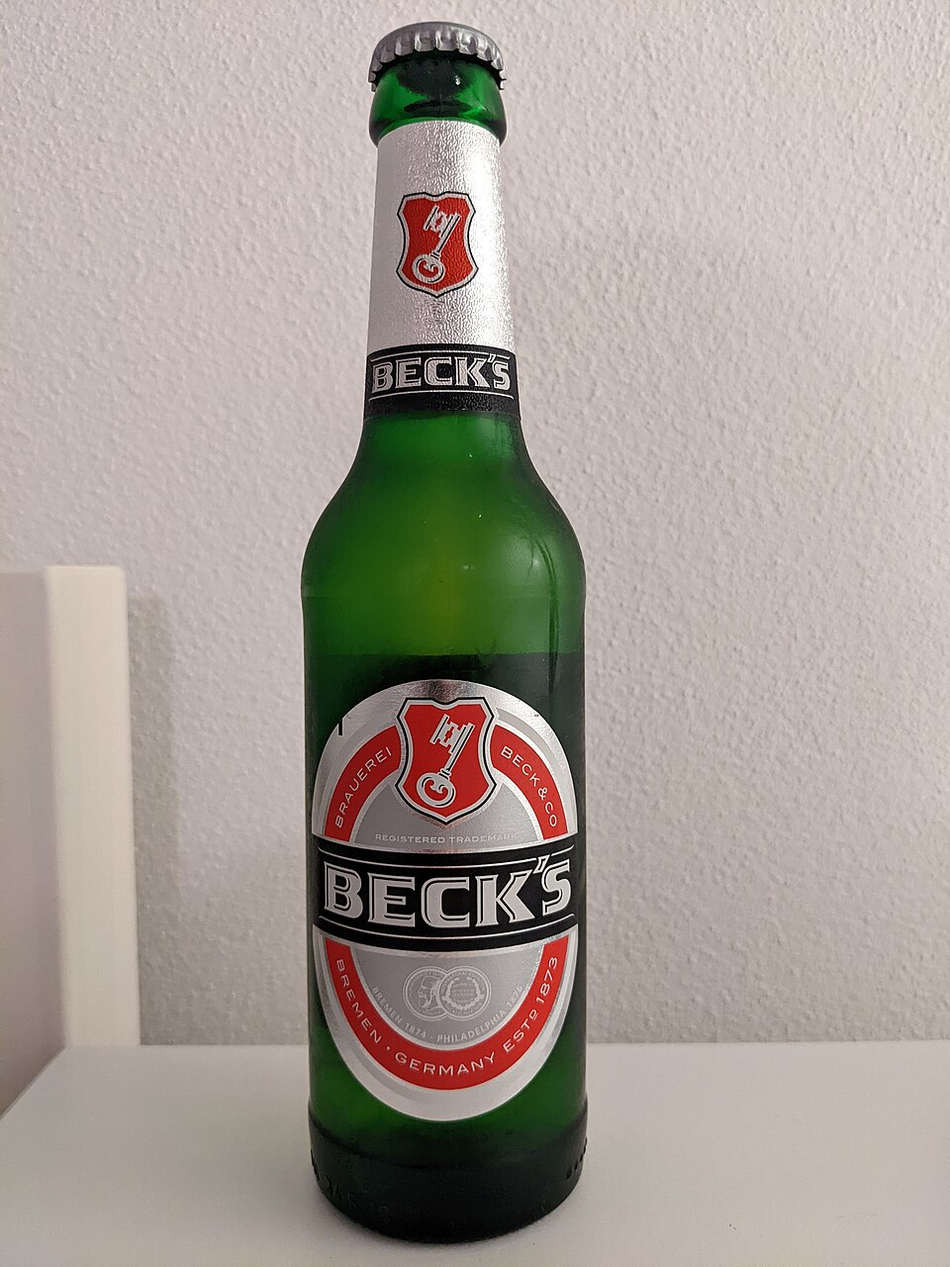beer-bottle: (288, 3, 596, 1240)
